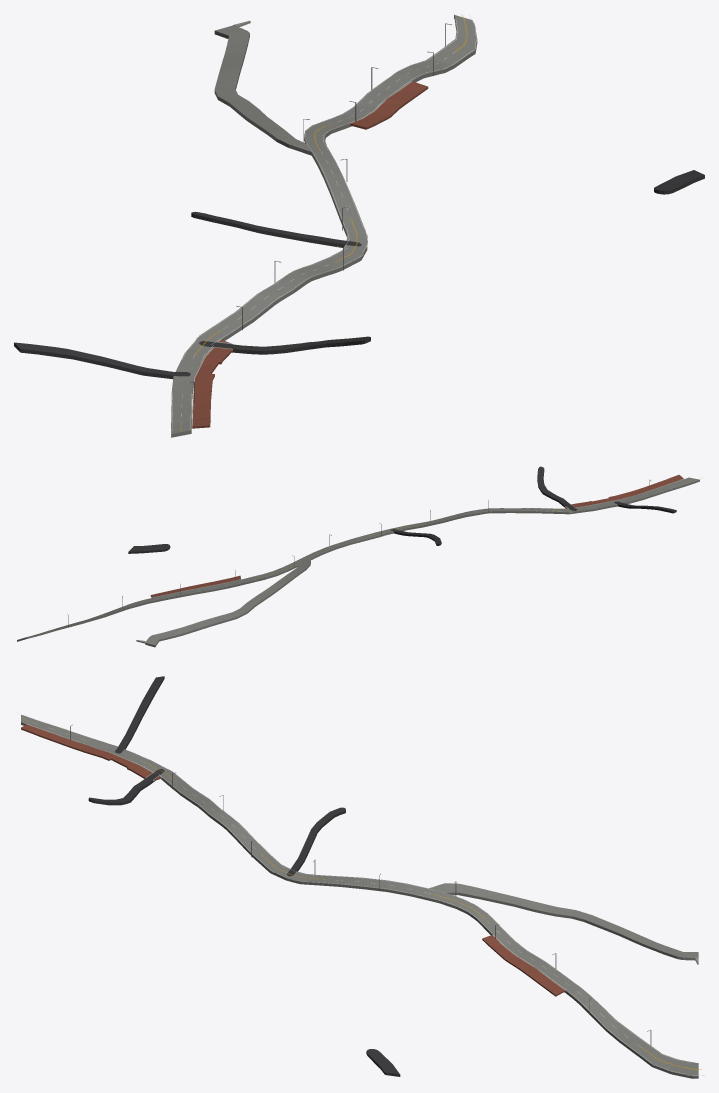
The picture shows the model from 3 angles, top to bottom: view 1: azimuth 30°, elevation 25°; view 2: azimuth 150°, elevation 25°; view 3: azimuth 270°, elevation 25°; orthographic projection. The views are drawn at different scales.
Bounding box in the file's own units: 293 × 55.82 × 297.
